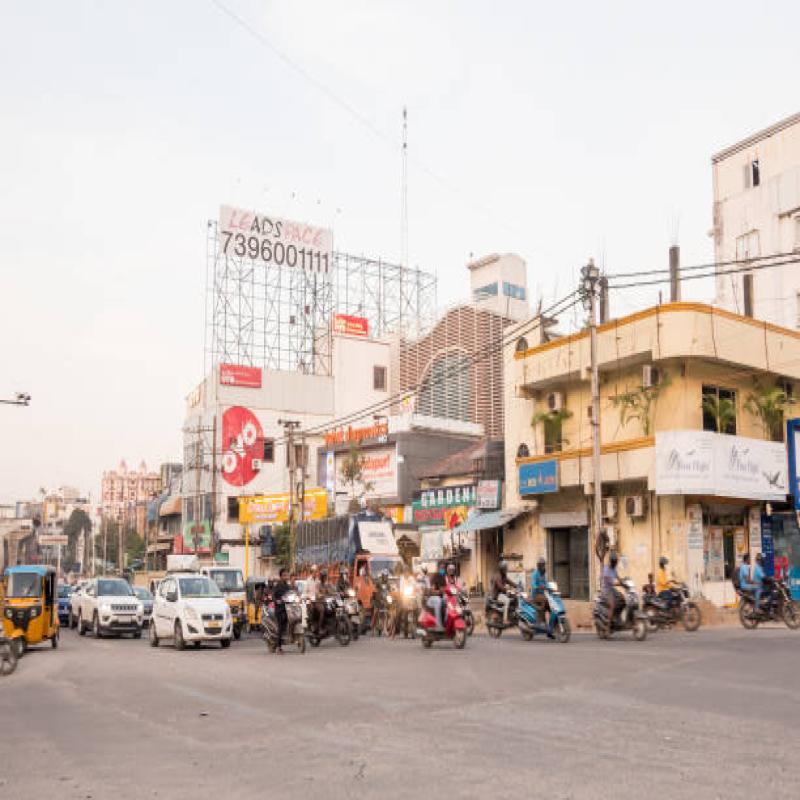auto: (4, 567, 55, 654)
bike: (515, 588, 572, 646), (271, 593, 319, 657), (412, 600, 481, 640)
car: (142, 561, 242, 647), (71, 581, 152, 644)
